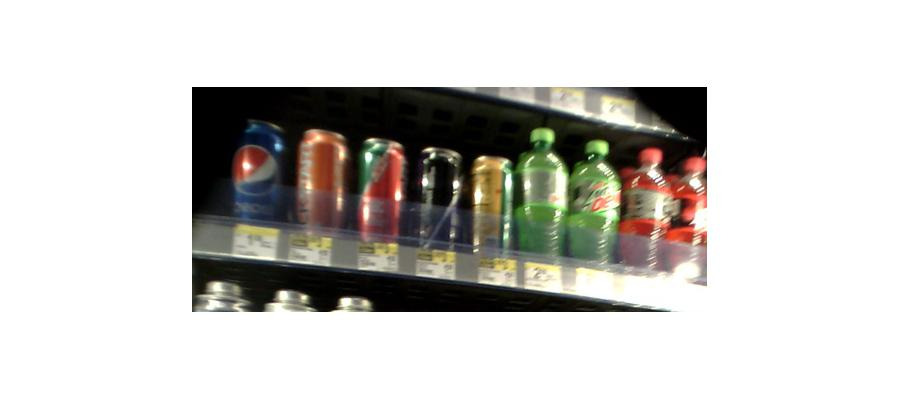bottle: (513, 130, 569, 264), (570, 136, 618, 269), (623, 144, 672, 274), (294, 128, 350, 237), (230, 110, 284, 223), (413, 143, 463, 251), (355, 138, 405, 245), (471, 154, 513, 261)
